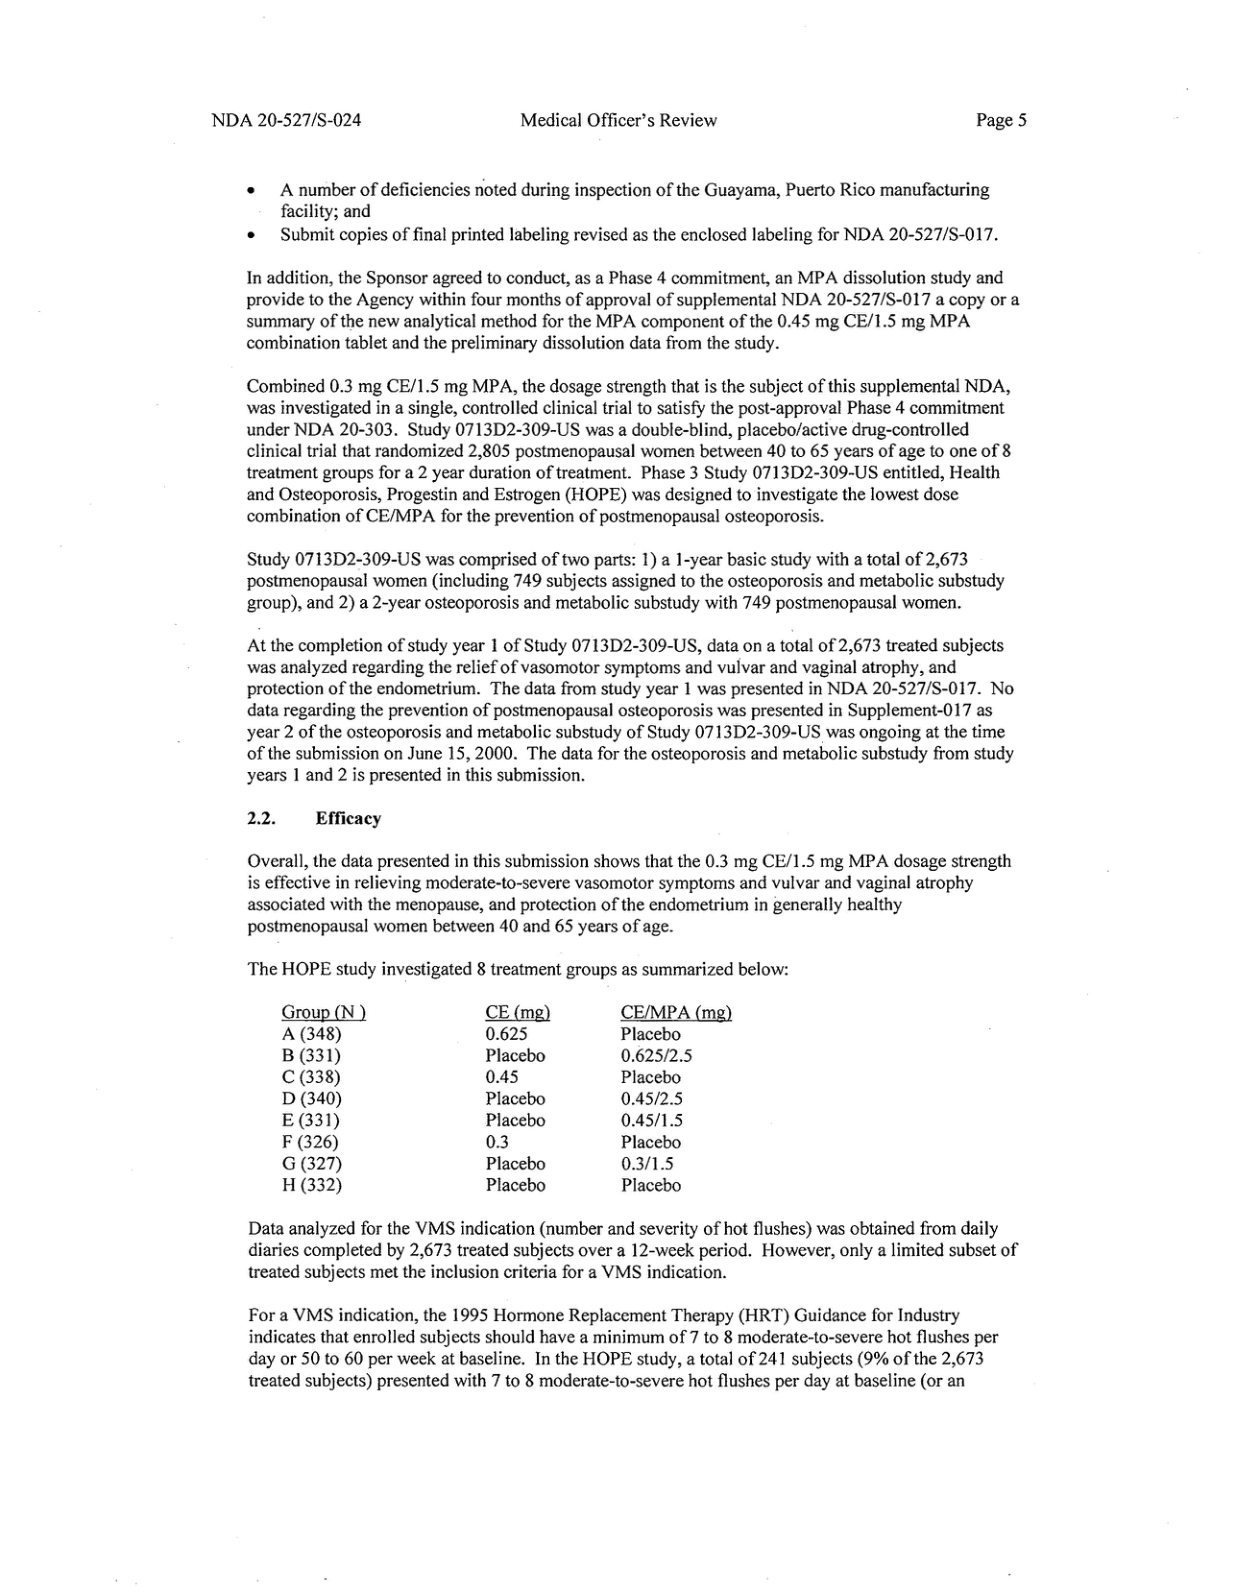nolines: (278, 999, 735, 1194)
